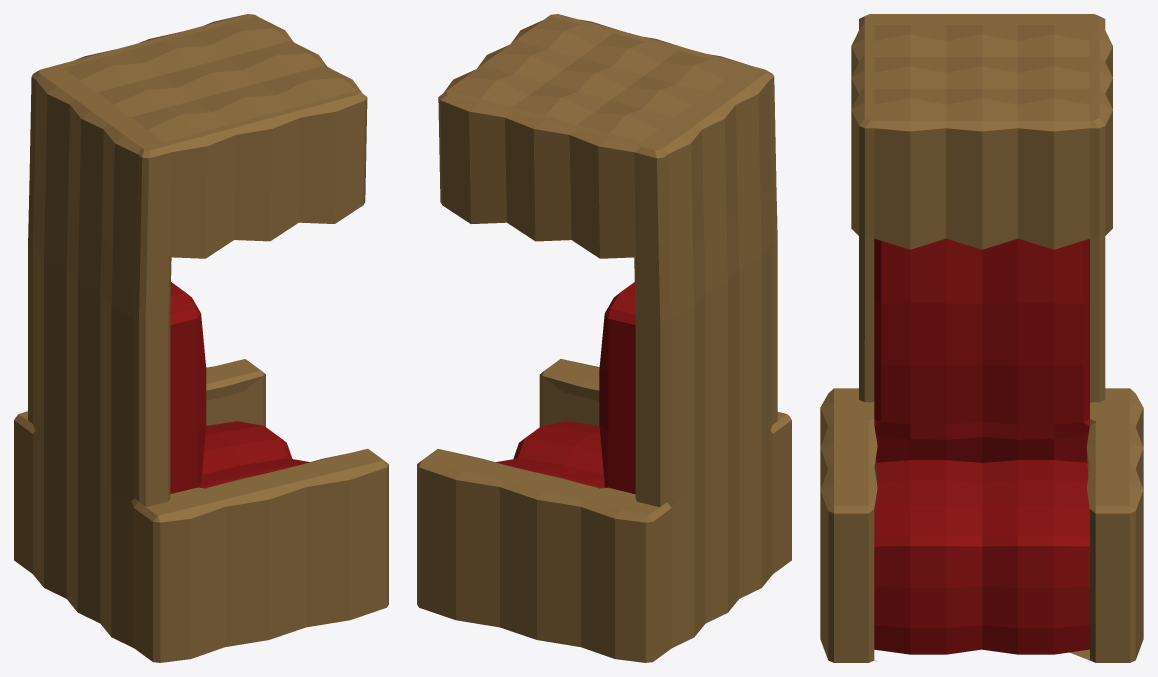
The model's file is Troon.fbx.
The picture shows the model from 3 angles, left to right: view 1: azimuth 30°, elevation 25°; view 2: azimuth 150°, elevation 25°; view 3: azimuth 270°, elevation 25°; orthographic projection. The views are drawn at different scales.
Visible parts, largest first — view 1: Cube.001; view 2: Cube.001; view 3: Cube.001.
Part boxes in pixels (x1,y1,x2,y2): Cube.001: [14, 14, 388, 662]; Cube.001: [417, 14, 791, 662]; Cube.001: [820, 14, 1143, 662].
Size of the model in its own units: 387 by 778 by 420.
